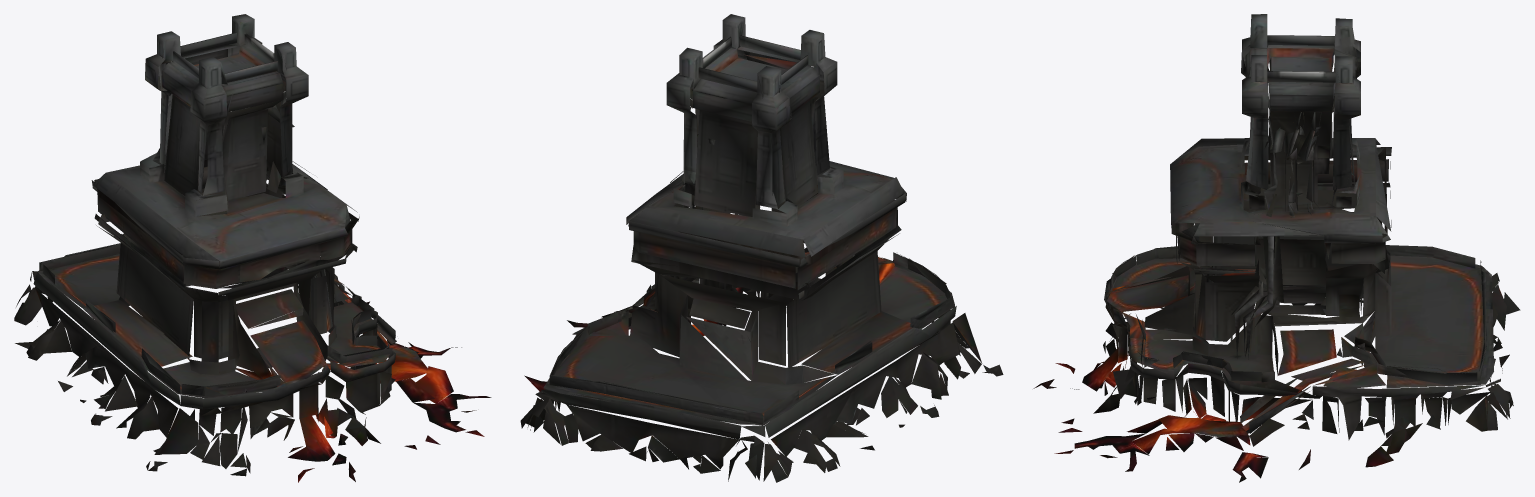
Rendered from arena-tower-v1-lod1.glb.
The picture shows the model from 3 angles, left to right: view 1: azimuth 30°, elevation 25°; view 2: azimuth 150°, elevation 25°; view 3: azimuth 270°, elevation 25°; orthographic projection. The views are drawn at different scales.
Parts seen in each view (by area): view 1: arena-tower-v1-lod1; view 2: arena-tower-v1-lod1; view 3: arena-tower-v1-lod1.
Boxes of the visible parts, left/top/right/bottom form: arena-tower-v1-lod1: left=14, top=14, right=491, bottom=482; arena-tower-v1-lod1: left=520, top=14, right=1003, bottom=482; arena-tower-v1-lod1: left=1033, top=14, right=1520, bottom=482.
Size of the model in its own units: 187 by 171 by 212.
1 material, 1 textured.
